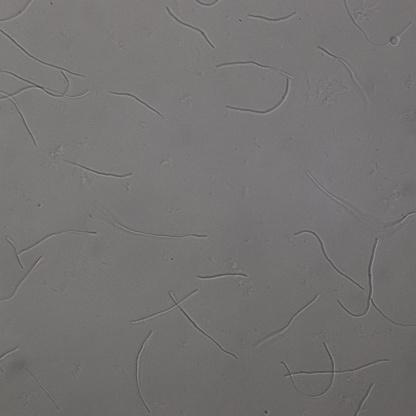Sensitive: (131, 288, 237, 357), (338, 238, 416, 328), (1, 28, 89, 99), (281, 341, 389, 398), (216, 60, 295, 114), (295, 230, 364, 289), (7, 229, 97, 268), (255, 294, 318, 345), (343, 1, 411, 48), (105, 212, 207, 240), (306, 173, 364, 221), (318, 46, 366, 101), (1, 256, 41, 304), (166, 7, 214, 47), (1, 91, 36, 145), (133, 329, 153, 413), (108, 91, 165, 118), (63, 159, 133, 180), (196, 270, 249, 283), (247, 12, 297, 25)
